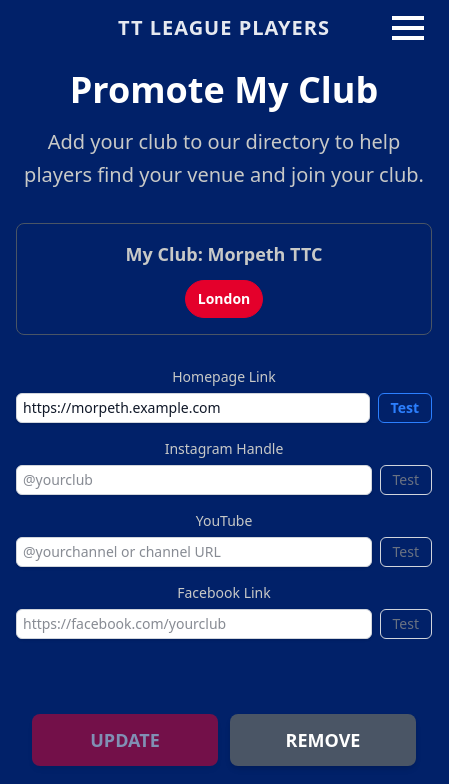
it: PromoteMyClub › input validation › rejects homepage ftp URL
Replace the text in the field labelled "Homepage Link" with "ftp://morpeth.example.com" at (193, 408), box x1=16 y1=393 x2=370 y2=423
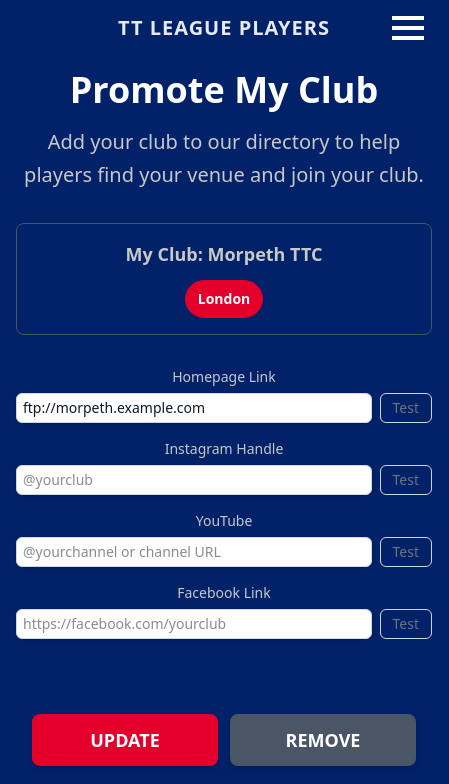
Click the button "UPDATE" at (125, 740), box x1=32 y1=714 x2=218 y2=766
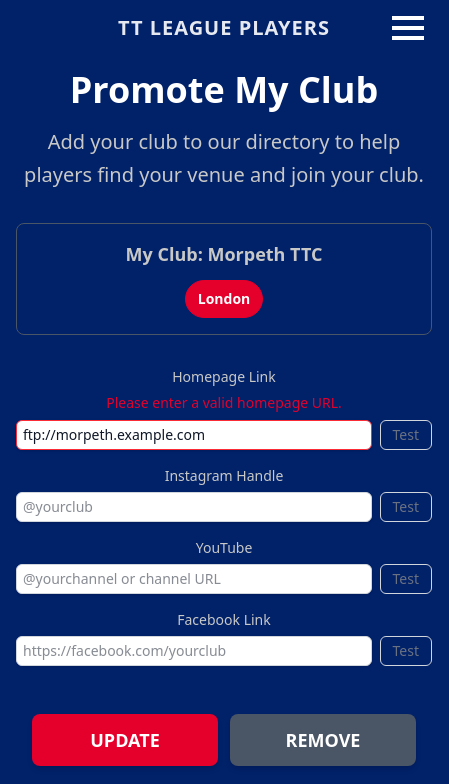
Now the text "Please enter a valid homepage URL." is shown, box x1=106 y1=393 x2=342 y2=412
